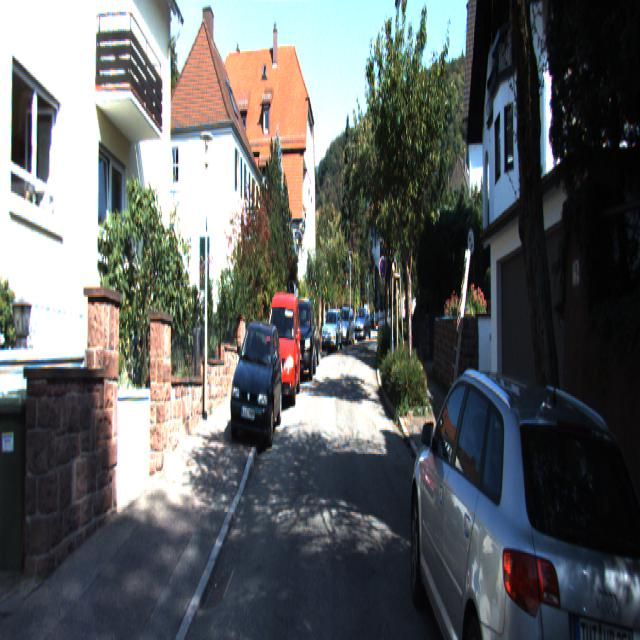Car: (408, 348, 640, 638), (229, 316, 283, 456), (262, 288, 302, 410), (286, 298, 316, 388), (322, 312, 344, 358)
